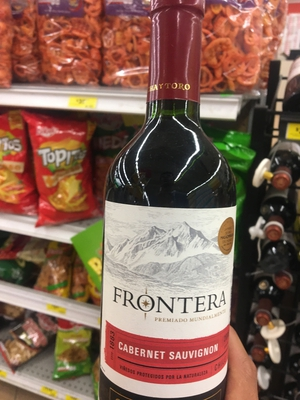frontera cabernet sauvignon: (103, 18, 249, 400)
